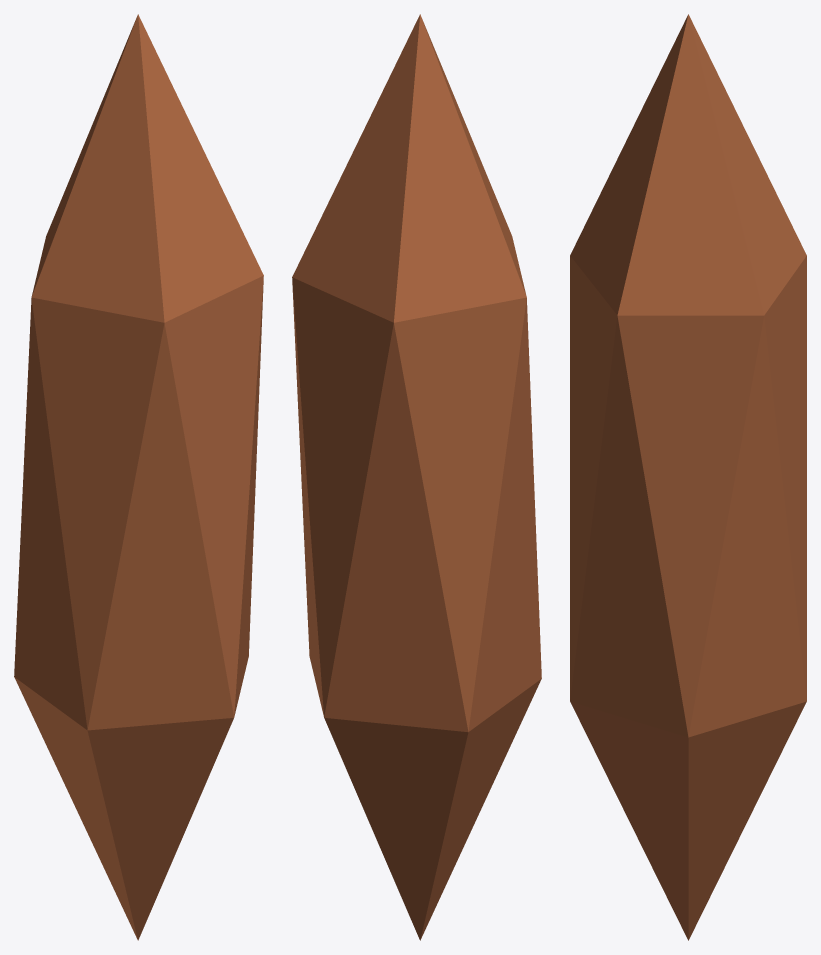
File: leg.obj
3 renders of one model, left to right at view 1: azimuth 30°, elevation 25°; view 2: azimuth 150°, elevation 25°; view 3: azimuth 270°, elevation 25°, orthographic.
Visible parts, largest first — view 1: leg__2; view 2: leg__2; view 3: leg__2.
Part boxes in pixels (x1=…): leg__2: x1=14, y1=14, x2=263, y2=940; leg__2: x1=292, y1=14, x2=541, y2=940; leg__2: x1=570, y1=14, x2=806, y2=940.
Bounding box in the file's own units: 0.053 × 0.216 × 0.05.
